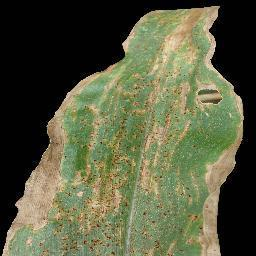Corn_Common_Rust: (119, 2, 246, 256), (2, 63, 119, 256)
